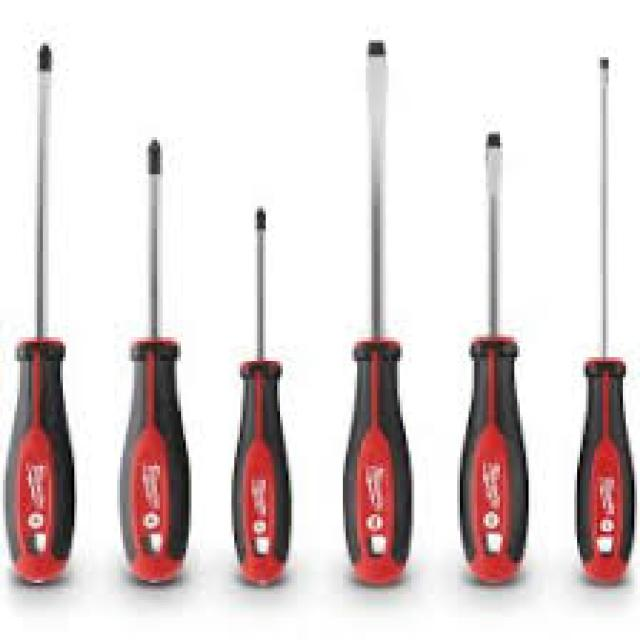screw driver: (332, 19, 438, 594), (544, 42, 640, 605), (445, 104, 541, 604), (6, 12, 88, 582), (214, 184, 325, 596), (111, 116, 208, 586)
